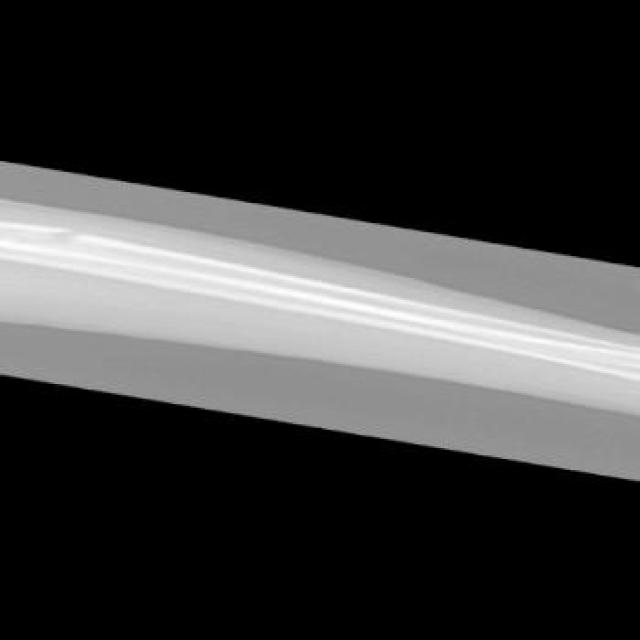Fracture: (18, 217, 102, 250)
